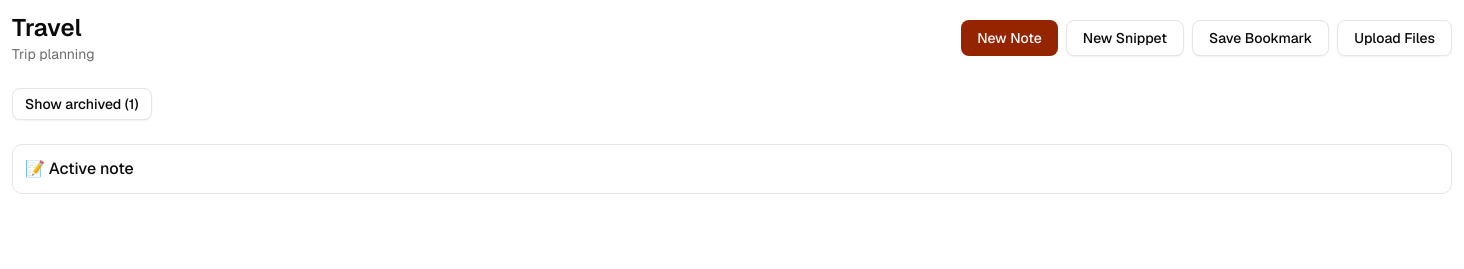
Test case: CollectionDetailView › hides archived items by default; 'Show archived' reveals them with an (Archived) label
The width and height of the screenshot is (1464, 269).
Check: the link "📝 Active note" is shown, box [25, 158, 134, 179]
Check: the text "Old note" is not shown
Click the button "Show archived (1)" at (82, 104), box [12, 88, 152, 120]
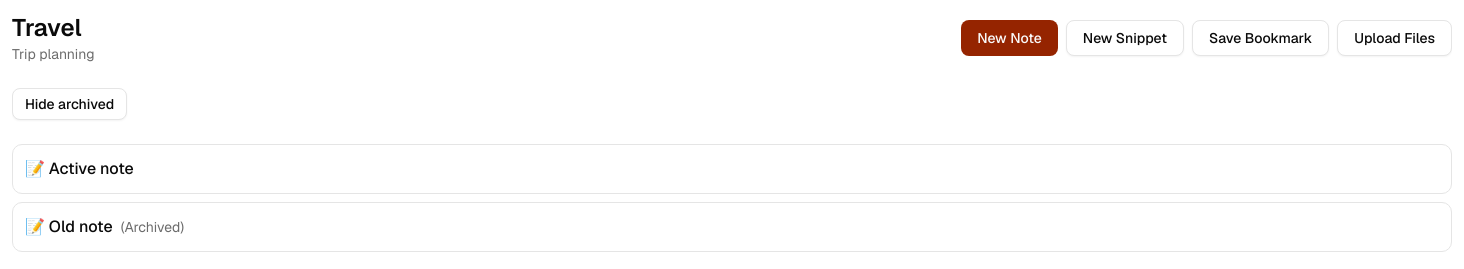
Check: the link "📝 Old note(Archived)" is shown, box [25, 216, 184, 237]
Check: the text "(Archived)" is shown, box [121, 218, 184, 236]
